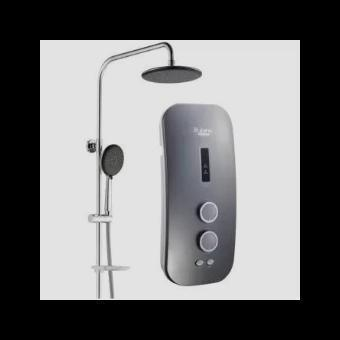Ducha: (79, 40, 250, 299)
